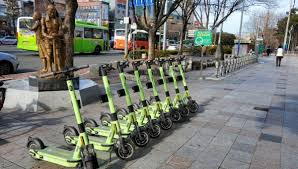kick_body: (41, 146, 74, 165)
kick_handler: (39, 63, 89, 81), (97, 62, 114, 75)
kick_wheel: (114, 138, 136, 160), (26, 137, 43, 159), (62, 125, 77, 144), (132, 128, 148, 145), (148, 124, 161, 137), (159, 117, 173, 128), (188, 101, 199, 113)
